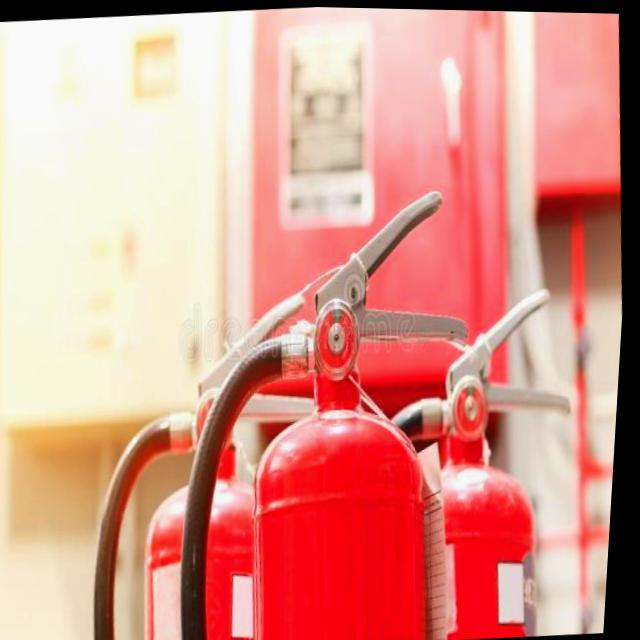FireExtinguisher: (157, 175, 505, 640), (71, 282, 348, 640), (355, 274, 601, 640)
